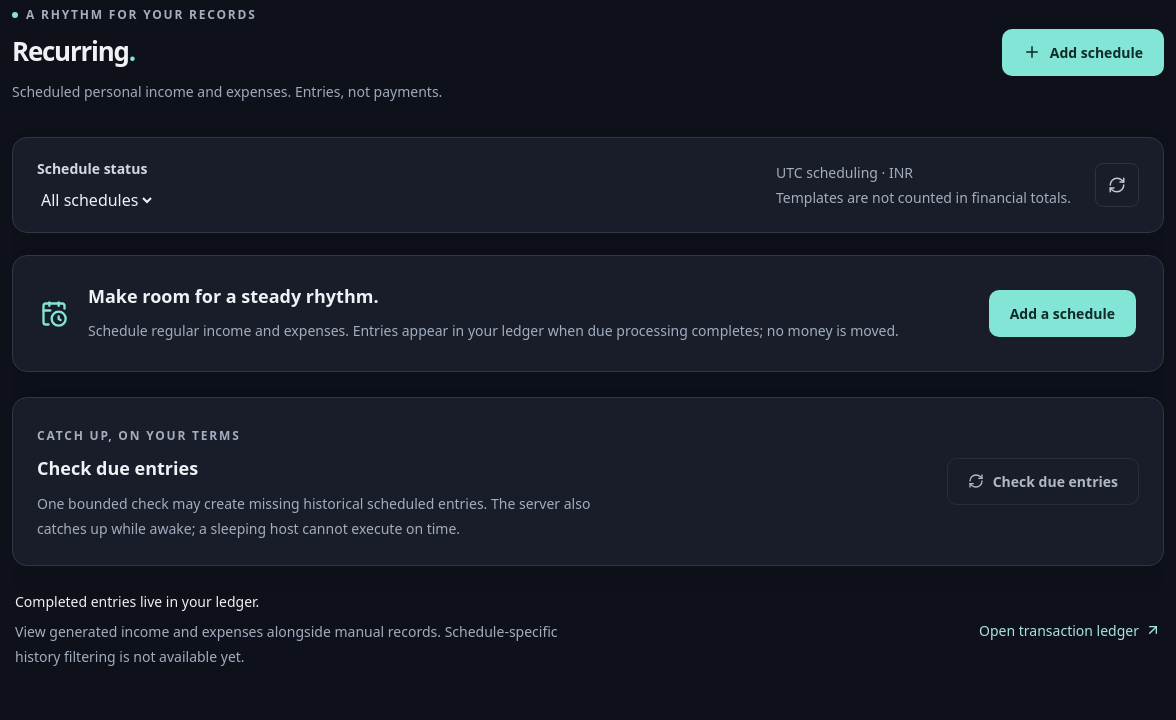
Test: shows an empty useful account and a filtered empty state without fabricated totals
Expected: the heading "Make room for a steady rhythm." is shown, [88,284,379,308]
Select "Paused" in the dropdown labelled "Schedule status" at (96, 200), box [37,188,155,212]
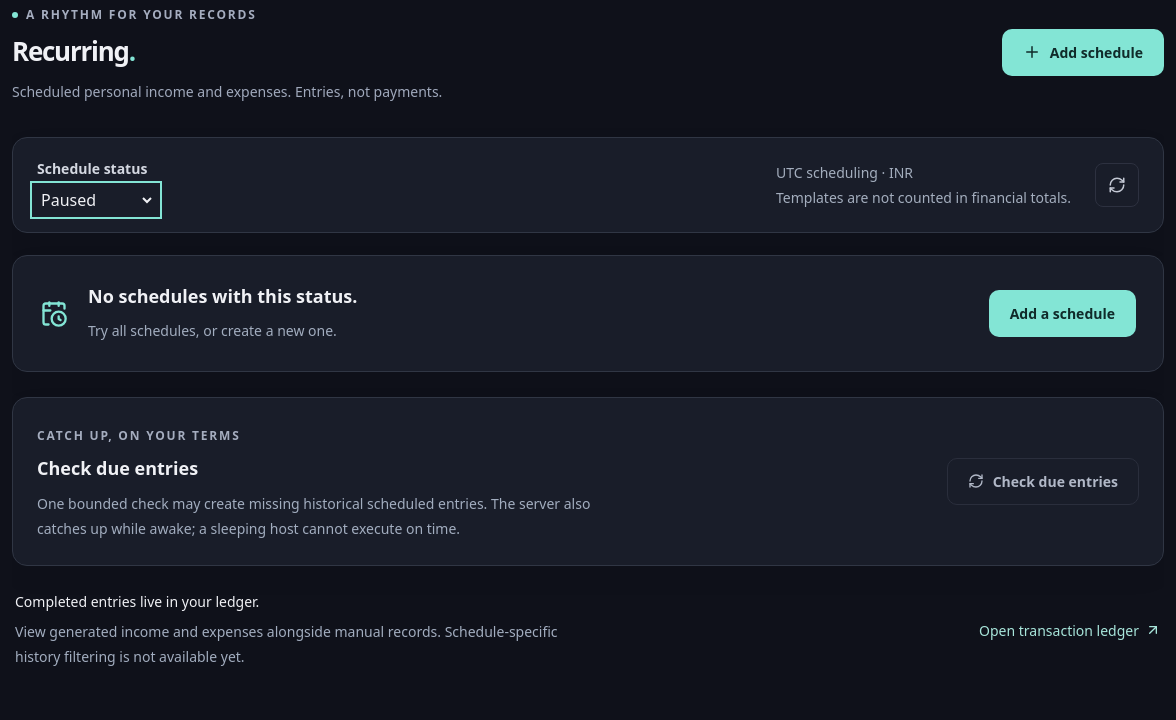
Result: the heading "No schedules with this status." is shown at [88,284,357,310]
